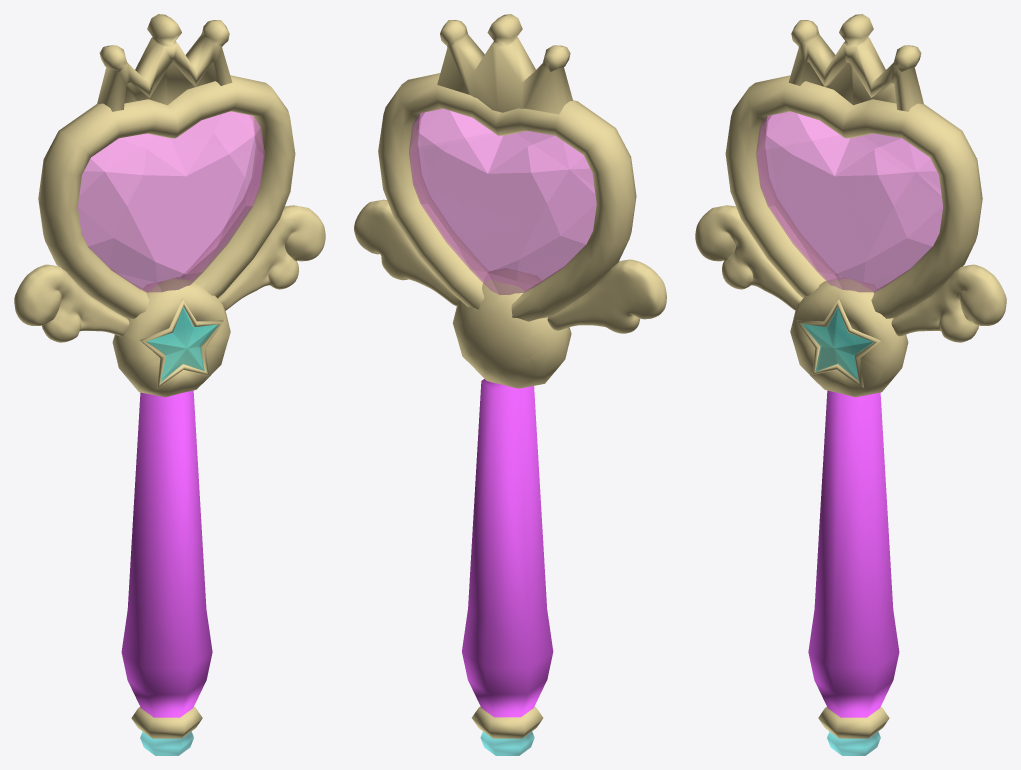
The model's file is mother.glb.
The picture shows the model from 3 angles, left to right: view 1: azimuth 30°, elevation 25°; view 2: azimuth 150°, elevation 25°; view 3: azimuth 330°, elevation 25°; orthographic projection.
Visible parts, largest first — view 1: Mother; view 2: Mother; view 3: Mother.
Part boxes in pixels (bbox=[...]): Mother: bbox=[14, 14, 325, 755]; Mother: bbox=[354, 14, 666, 755]; Mother: bbox=[695, 14, 1006, 755].
Size of the model in its own units: 2.87 by 6.58 by 0.7358.
